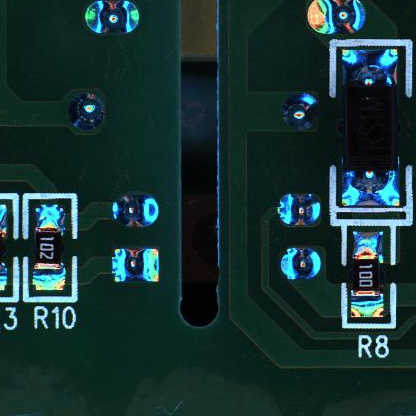spot: (306, 1, 367, 36), (82, 1, 142, 35), (112, 248, 164, 285), (110, 193, 160, 231), (279, 91, 319, 133), (278, 192, 322, 226), (279, 248, 323, 281), (69, 93, 107, 131)
